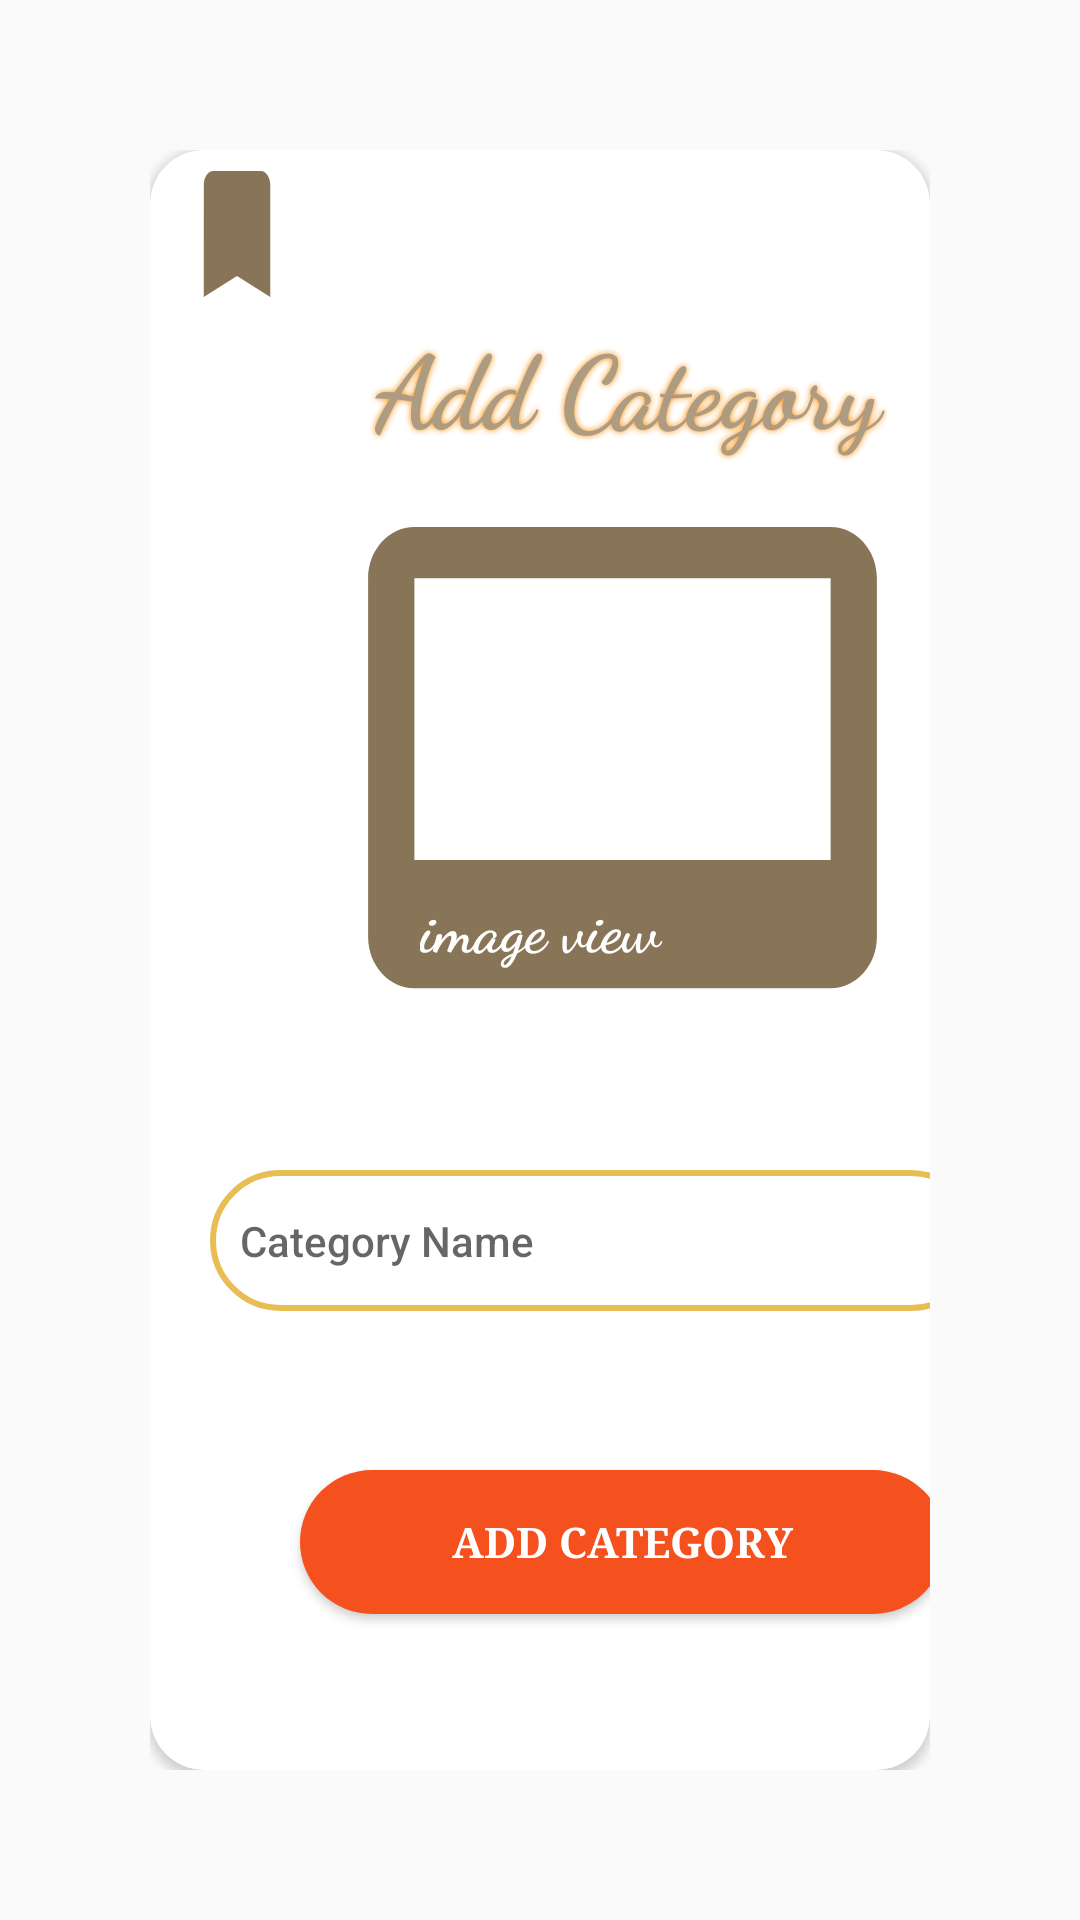

Icons on this 1080 × 1920 Android screen, each with its box as (x1, y1, x2, y2):
bookmark: (185, 150, 271, 297)
